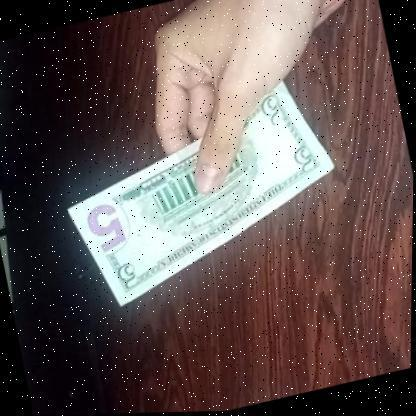five-back: (46, 66, 358, 316)
